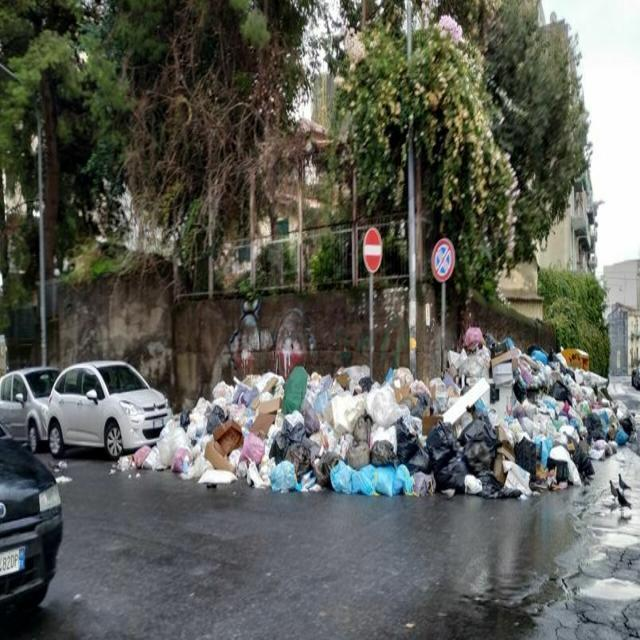garbage: (152, 331, 632, 522)
